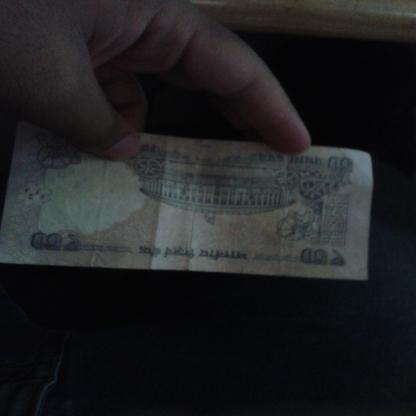Old50Back: (0, 119, 375, 282)
